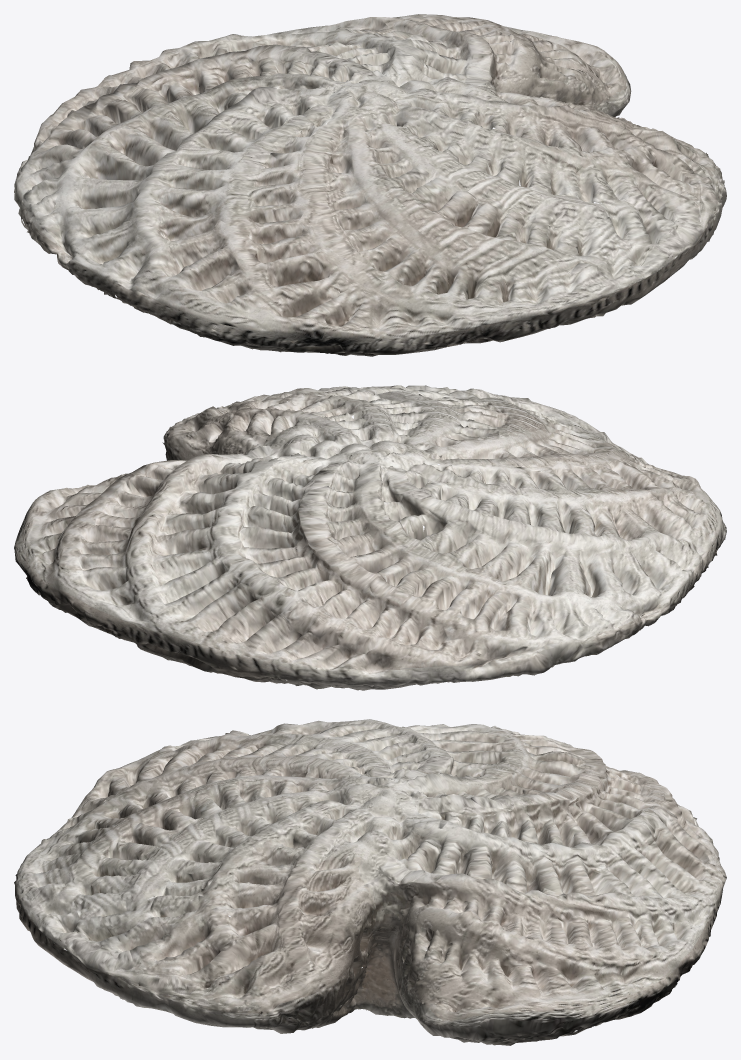
The model's file is 齒輪蟲.glb.
The picture shows the model from 3 angles, top to bottom: view 1: azimuth 30°, elevation 25°; view 2: azimuth 150°, elevation 25°; view 3: azimuth 270°, elevation 25°; orthographic projection. The views are drawn at different scales.
Parts seen in each view (by area): view 1: OilTank001Mesh; view 2: OilTank001Mesh; view 3: OilTank001Mesh.
Boxes of the visible parts, x1=… form: OilTank001Mesh: x1=14, y1=14, x2=726, y2=356; OilTank001Mesh: x1=14, y1=385, x2=726, y2=690; OilTank001Mesh: x1=14, y1=719, x2=726, y2=1045.
Bounding box in the file's own units: 0.146 × 0.0422 × 0.1483.
1 material, 1 textured.
